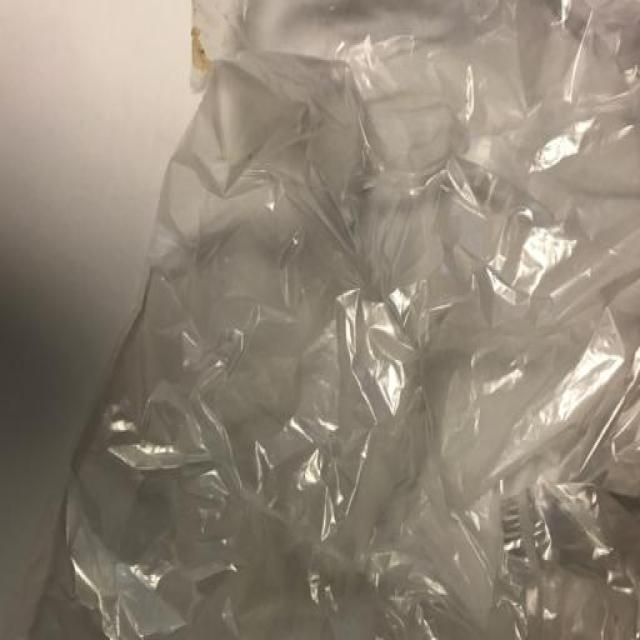Random Trash: (25, 0, 640, 640)
